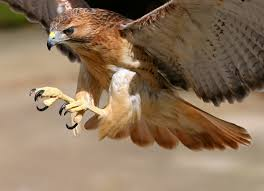nontarget: (31, 1, 264, 150)
